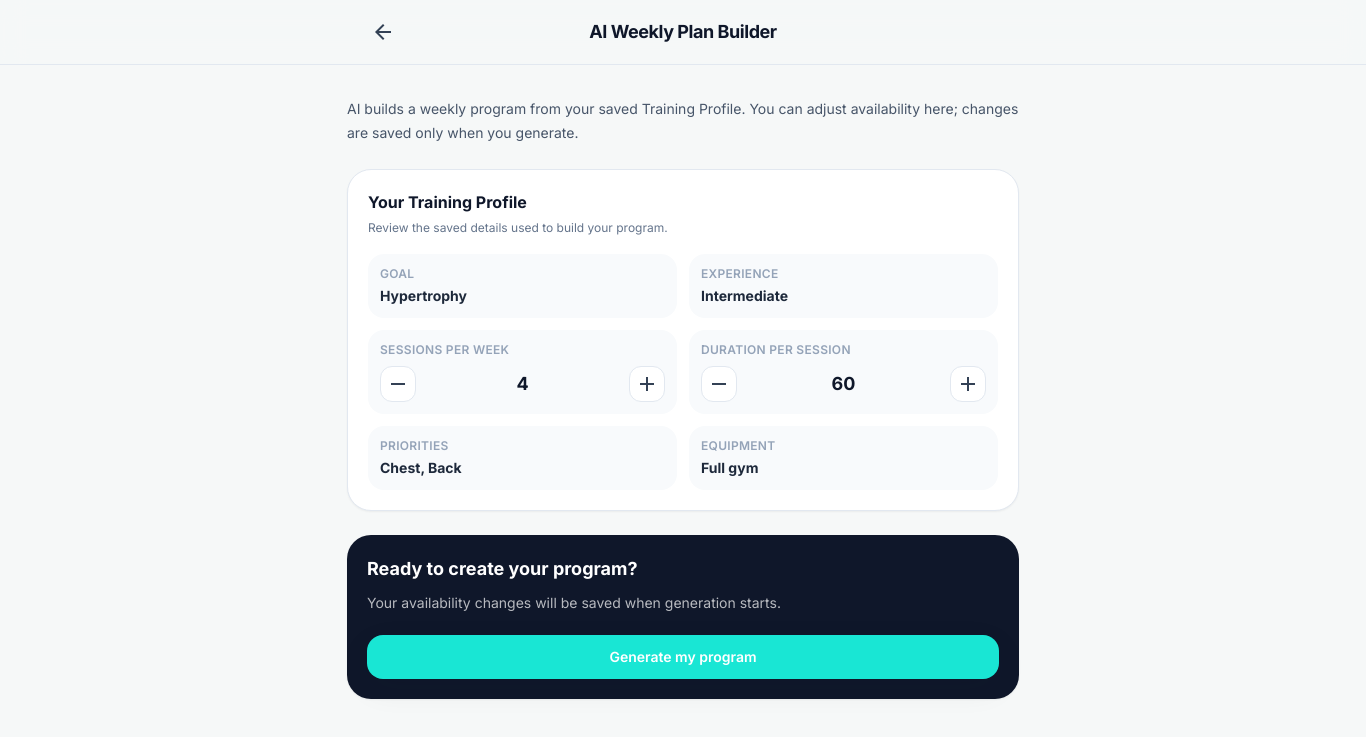
Test: generation loading copy progresses without fake percentages
This screenshot has width=1366, height=737.
Check: the text "Hypertrophy" is shown, box [380,287,467,304]
Click the button "Generate my program" at (683,657), box [367,635,999,679]
Wait 3500 ms
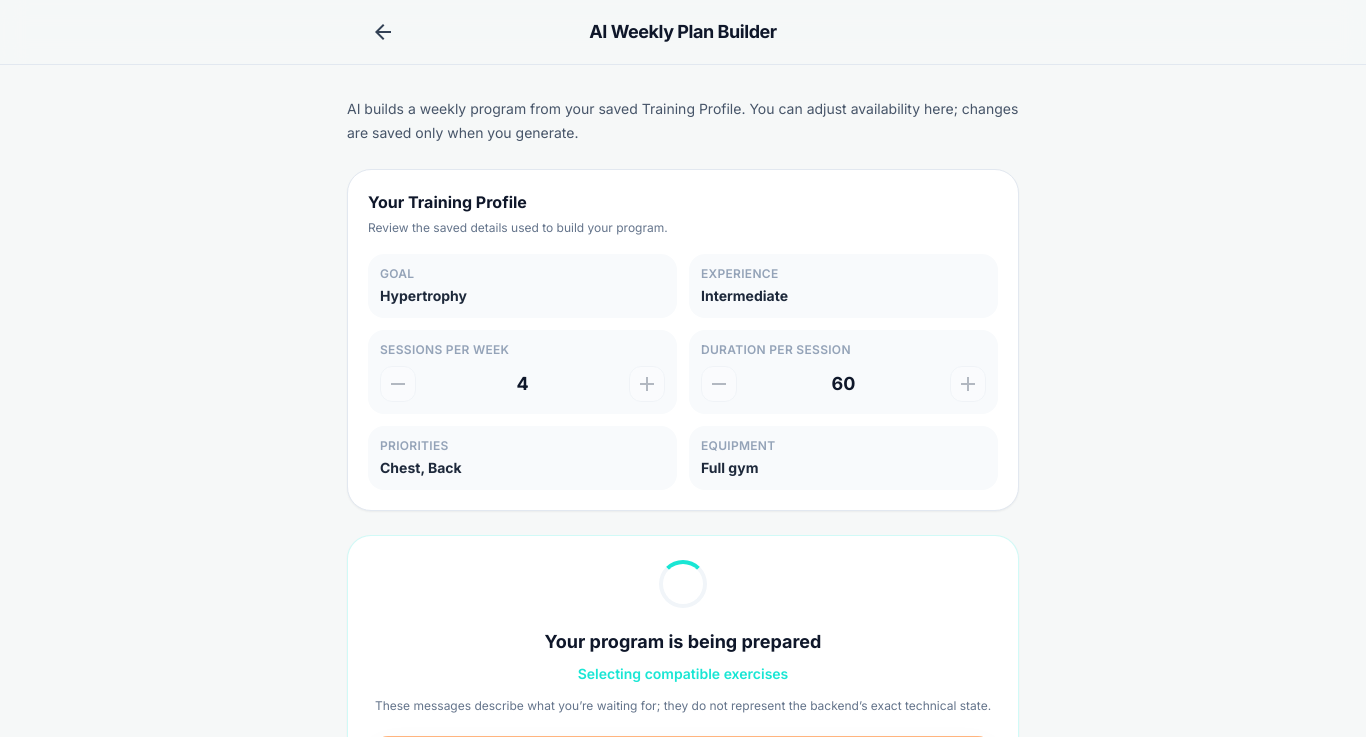
Check: the text "Selecting compatible exercises" is shown, box [578,665,788,682]
